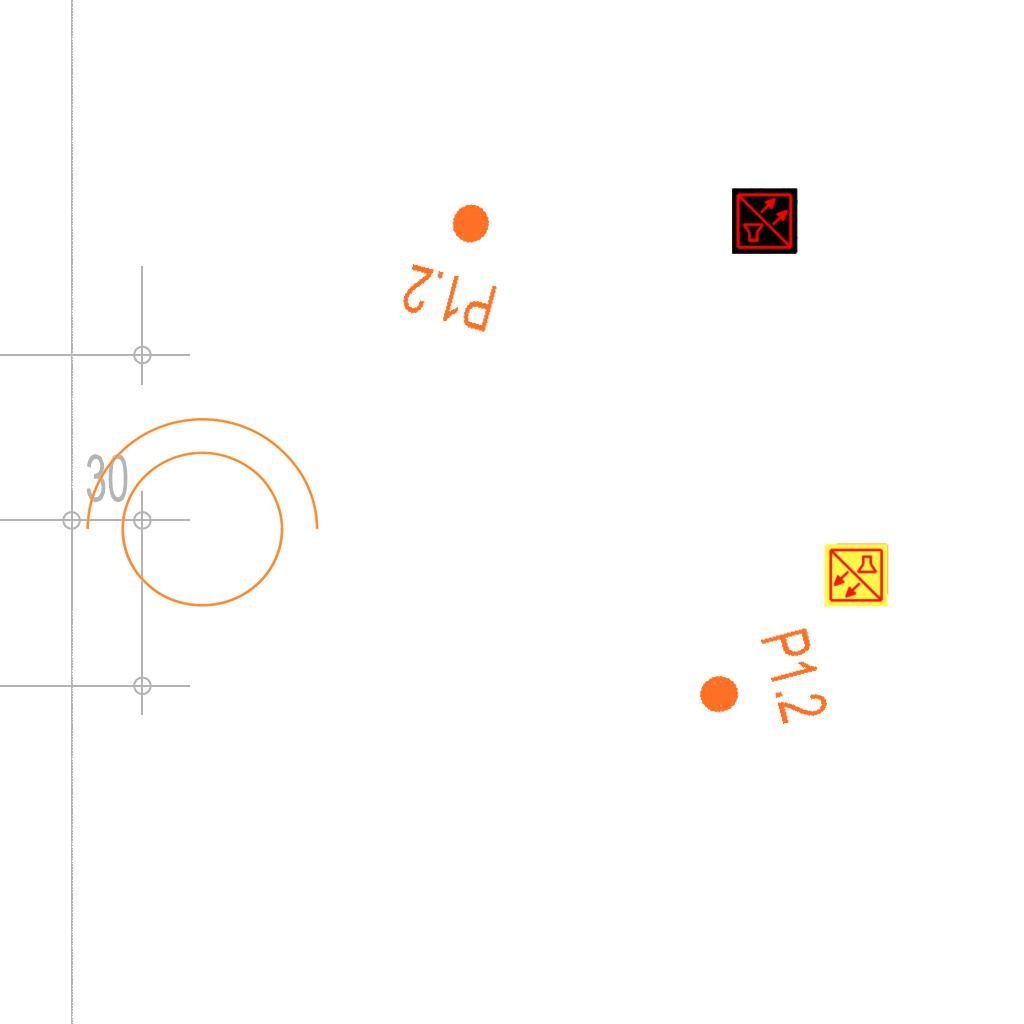Downlight_LED_Einbauleuchten_Flur: (685, 623, 834, 747), (397, 189, 520, 337)
OKW_Multisensormelder_(Kombination_optischer_Rauch-Kahlenmonoxid_Waerme-Melder): (732, 188, 798, 254), (823, 542, 889, 608)
Scheinwerfer_fuer_Alarmbeleuchtung: (64, 407, 328, 632)
